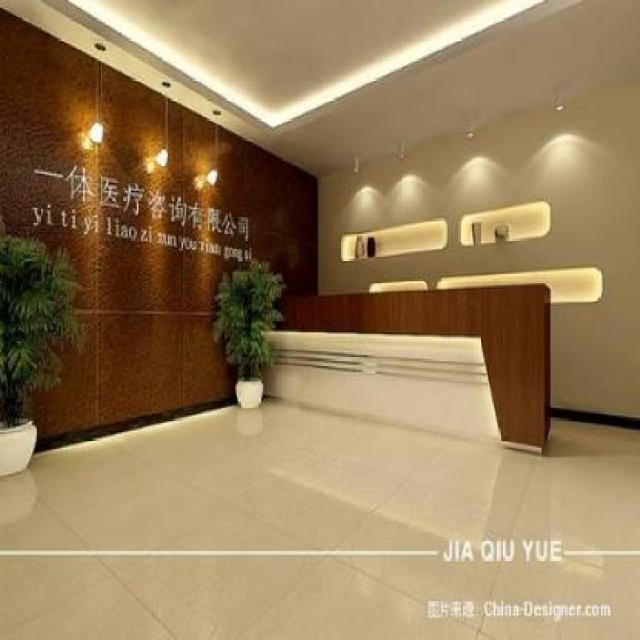frontdesk: (234, 266, 563, 466)
